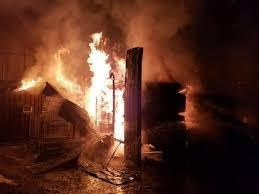fire: (83, 33, 125, 122), (16, 75, 41, 90)
